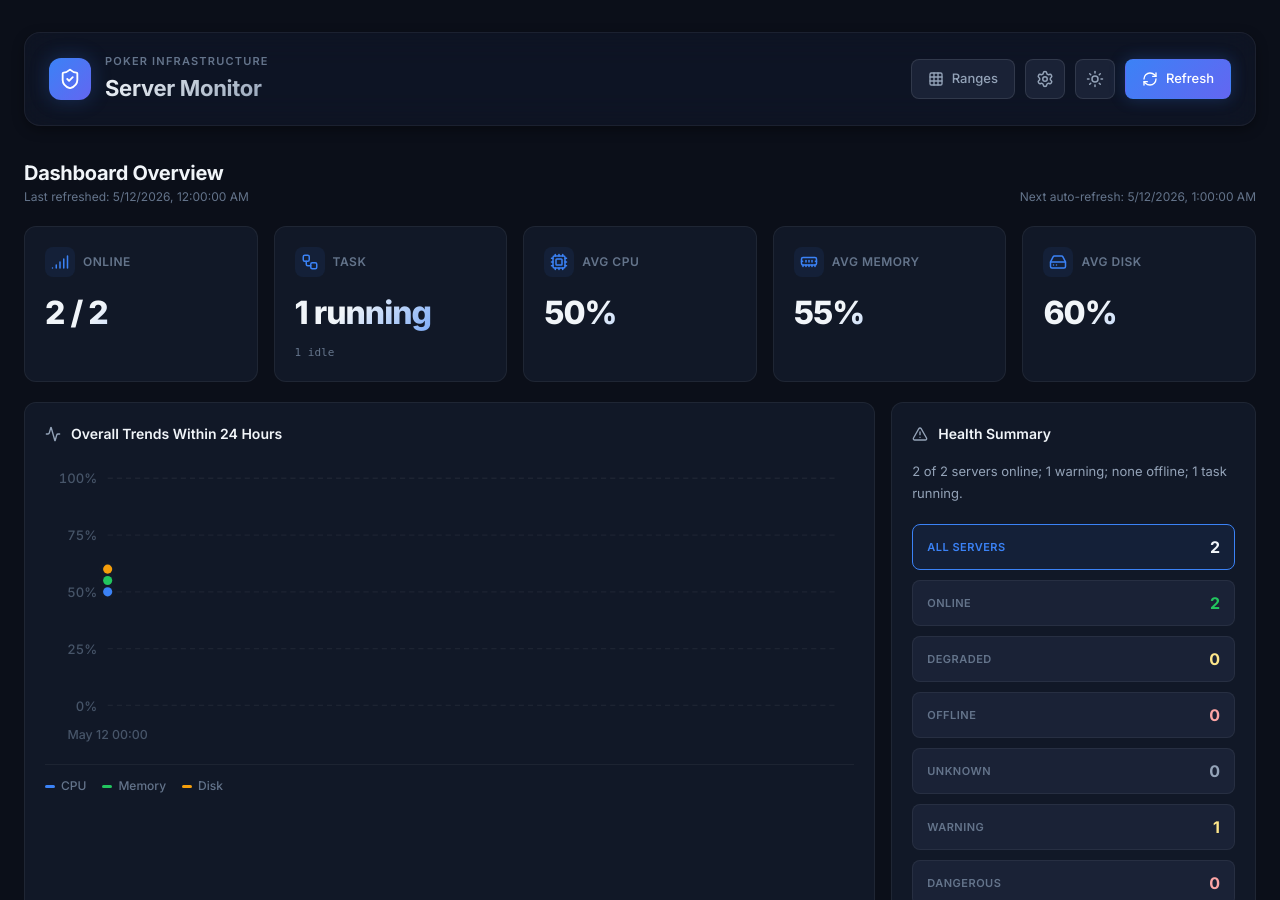
Test: App › shows a waiting state before the QR URL arrives
Click the button named "Open settings" at (1045, 79), box x1=1025 y1=59 x2=1065 y2=99
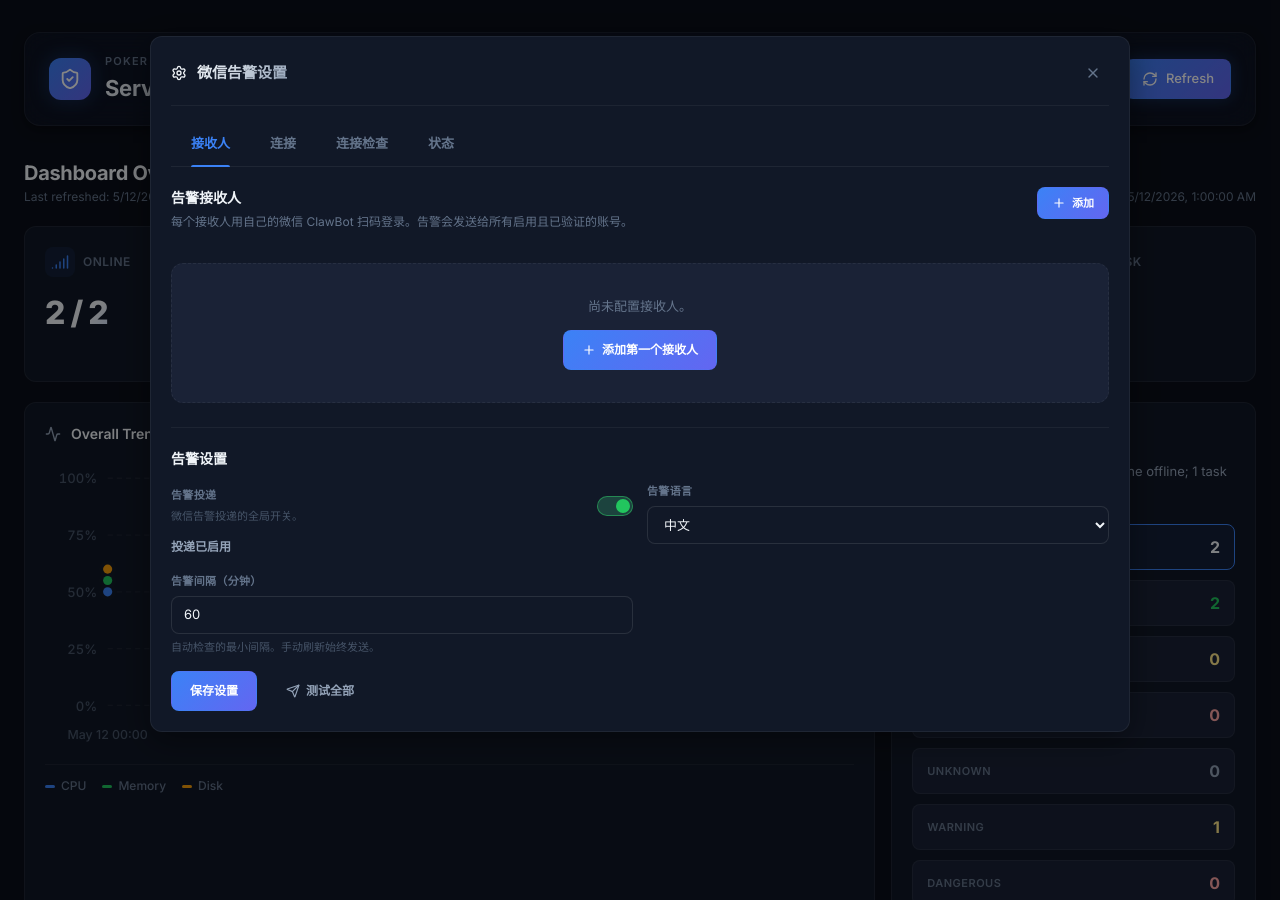
Click the button "添加" at (1073, 203), box x1=1037 y1=186 x2=1109 y2=219
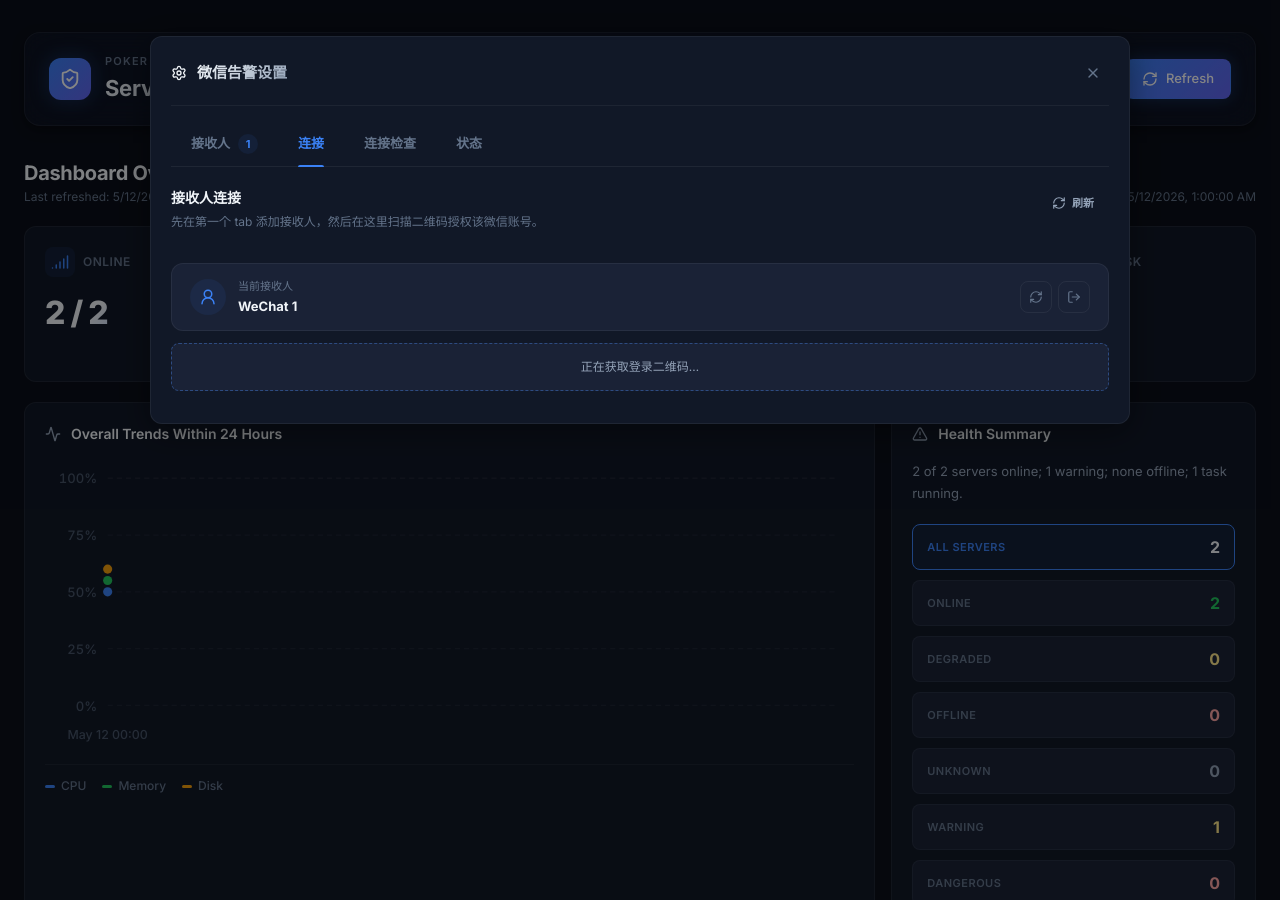
Check: the text "正在获取登录二维码…" is shown, box x1=171 y1=343 x2=1109 y2=391
